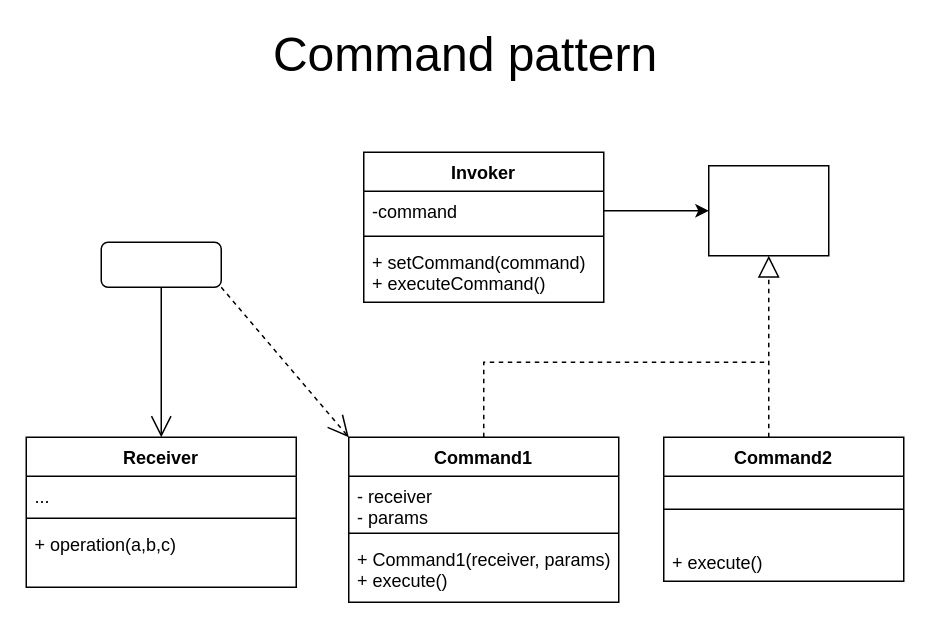
Some shapes in this 930 by 632 pixel diagram are drawn without their labels. Each missing label, with the centre of its shape:
"<<Interface>> Command + execute()" goes at point (768, 210).
"Client" goes at point (160, 264).
